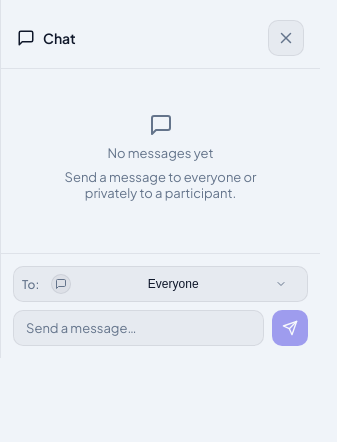
Test: ChatPanel › recipient dropdown › closes dropdown on Escape key
Click the button with aria-label "Select message recipient" at (173, 284), box [47,272,299,296]
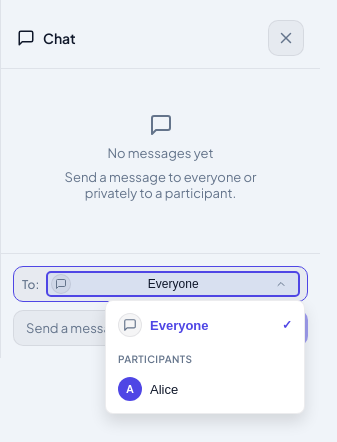
Expected: the list is shown, [105,300,305,414]
Press Escape
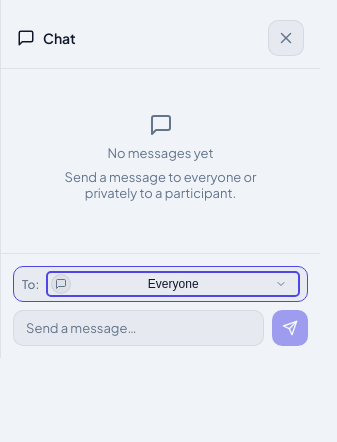
Expected: the list is gone
